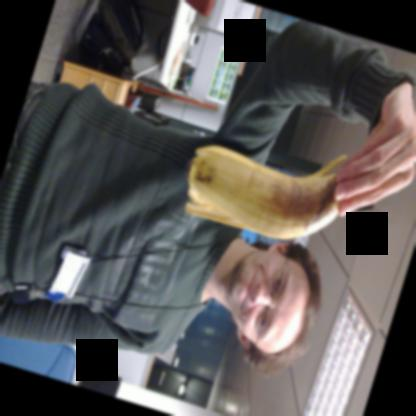backpack: (95, 0, 144, 64), (78, 12, 125, 76)
